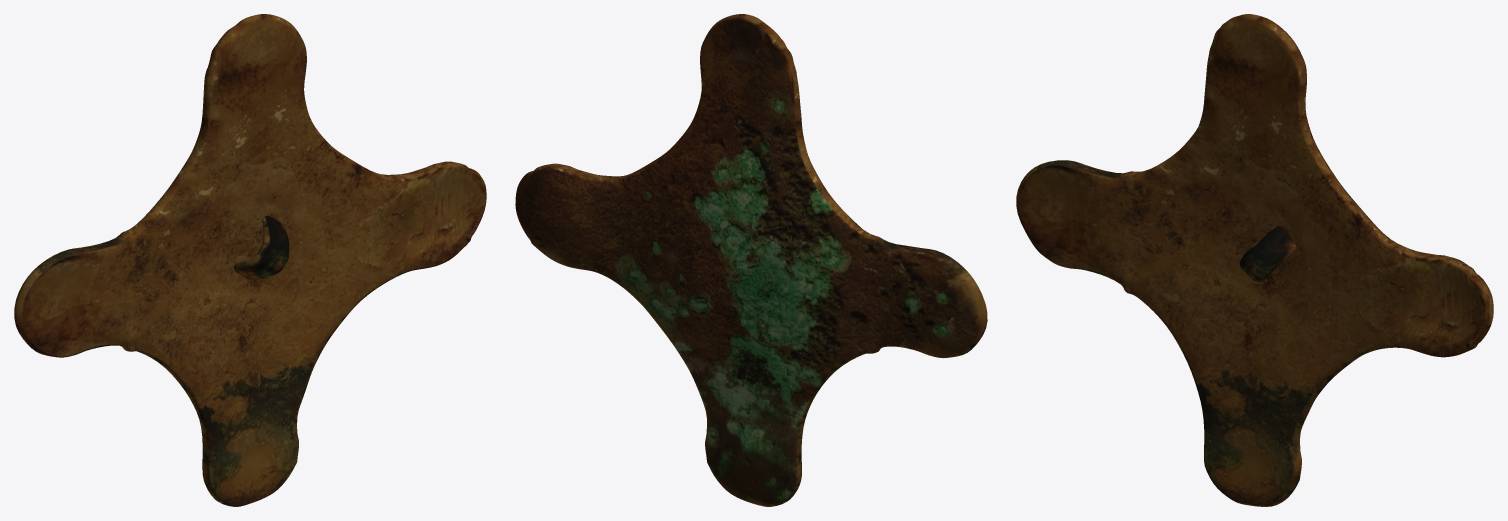
File: brosh.fbx
3 renders of one model, left to right at view 1: azimuth 30°, elevation 25°; view 2: azimuth 150°, elevation 25°; view 3: azimuth 330°, elevation 25°, orthographic.
Parts seen in each view (by area): view 1: Cube, Cube.001; view 2: Cube; view 3: Cube, Cube.001.
Part boxes in pixels (bbox=[...]): Cube: bbox=[14, 14, 486, 506]; Cube.001: bbox=[233, 215, 289, 279]; Cube: bbox=[515, 14, 987, 506]; Cube: bbox=[1016, 14, 1493, 506]; Cube.001: bbox=[1239, 226, 1296, 284].
Size of the model in its own units: 396 by 392 by 41.96.
1 material, 1 textured.
